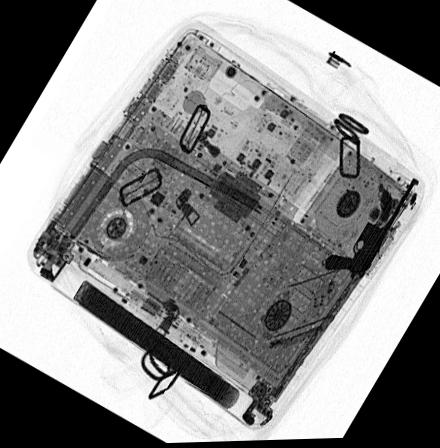Gun: (324, 179, 420, 281)
